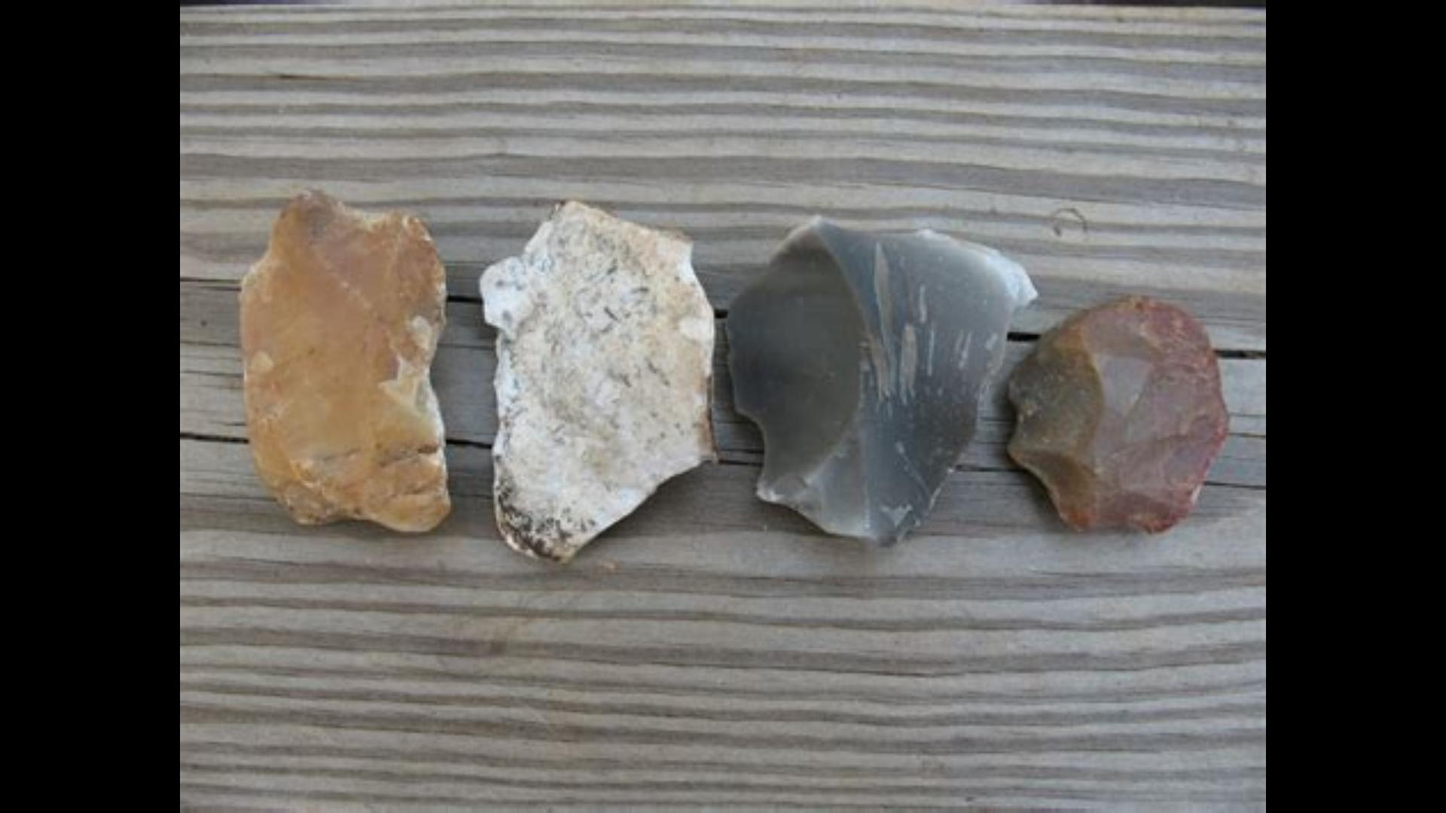rock: (732, 229, 1035, 538), (480, 204, 712, 557), (237, 196, 447, 531), (1004, 299, 1234, 534)
